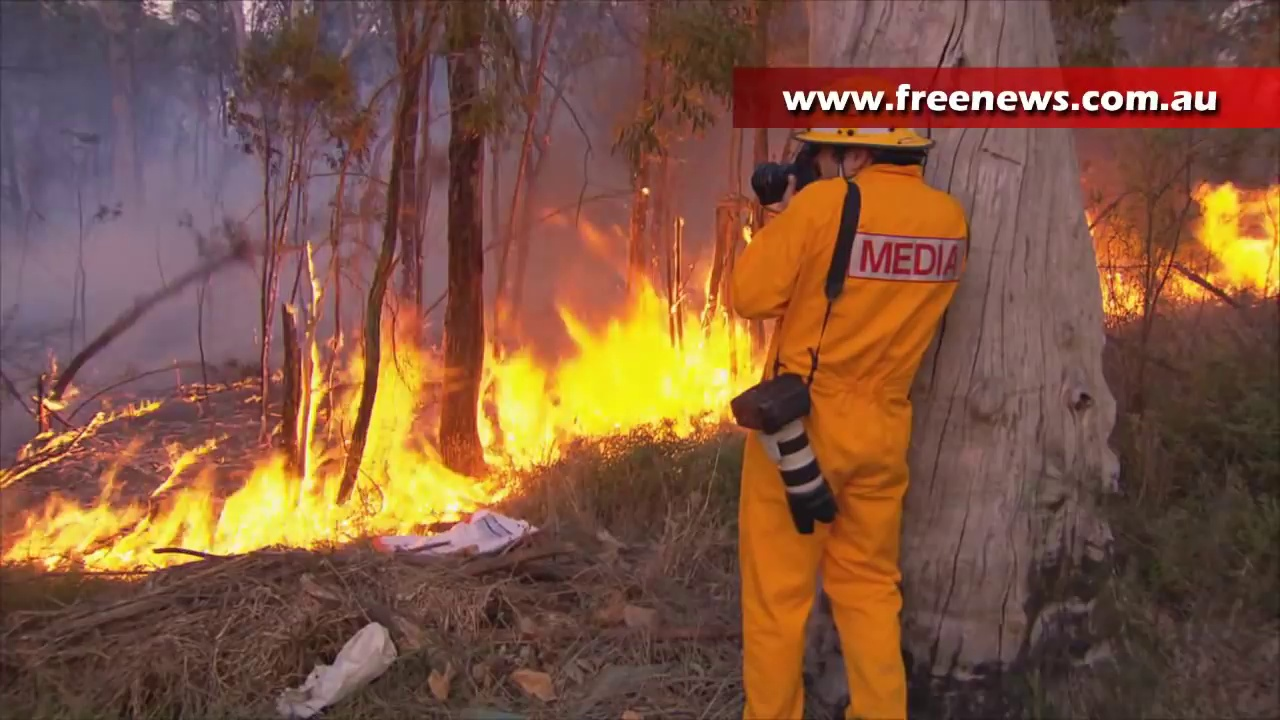fire: (6, 342, 452, 570), (481, 278, 749, 467), (1202, 187, 1280, 292)
